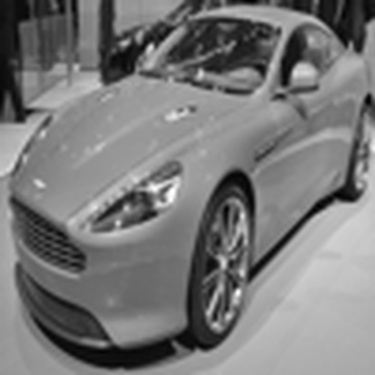car: (4, 4, 374, 369), (93, 2, 272, 85)
